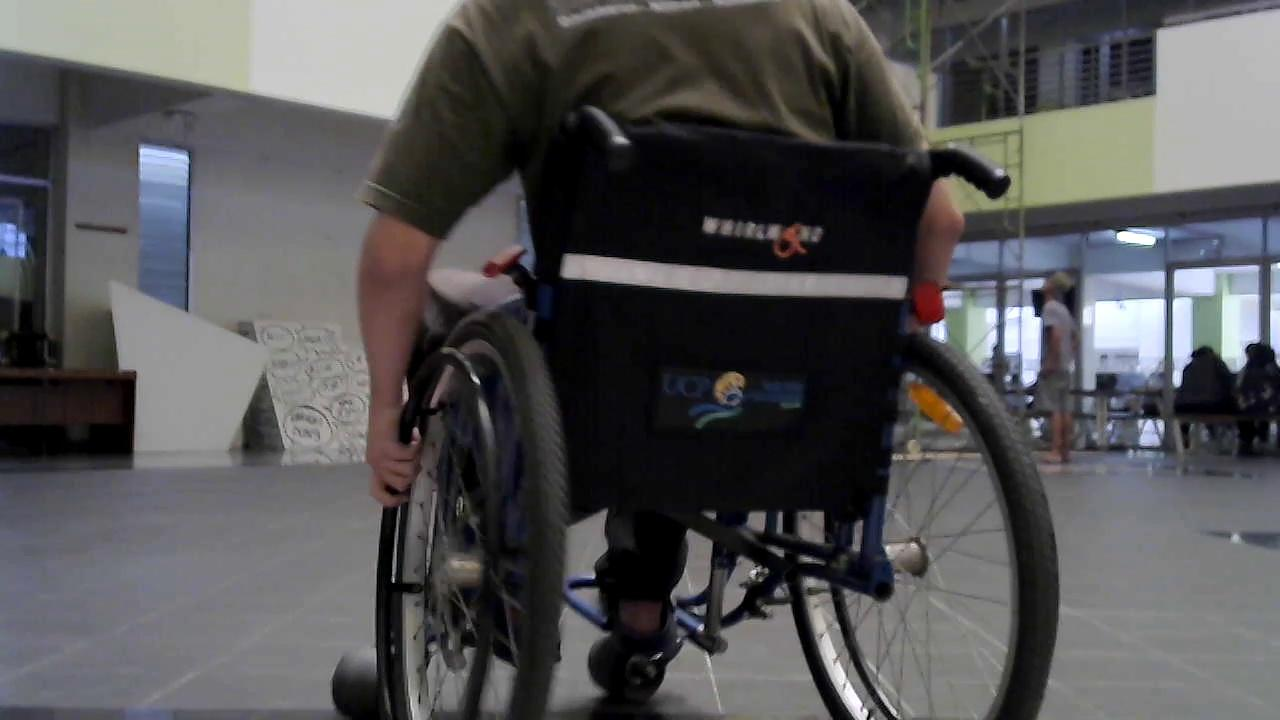person: (352, 0, 1010, 699), (1029, 272, 1080, 466), (1174, 344, 1241, 462), (1236, 343, 1280, 453)
wheelchair: (358, 121, 1086, 718)
